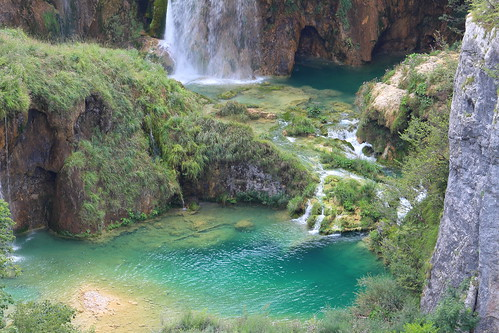sea: (1, 209, 389, 333)
vegetation: (9, 50, 499, 243)
